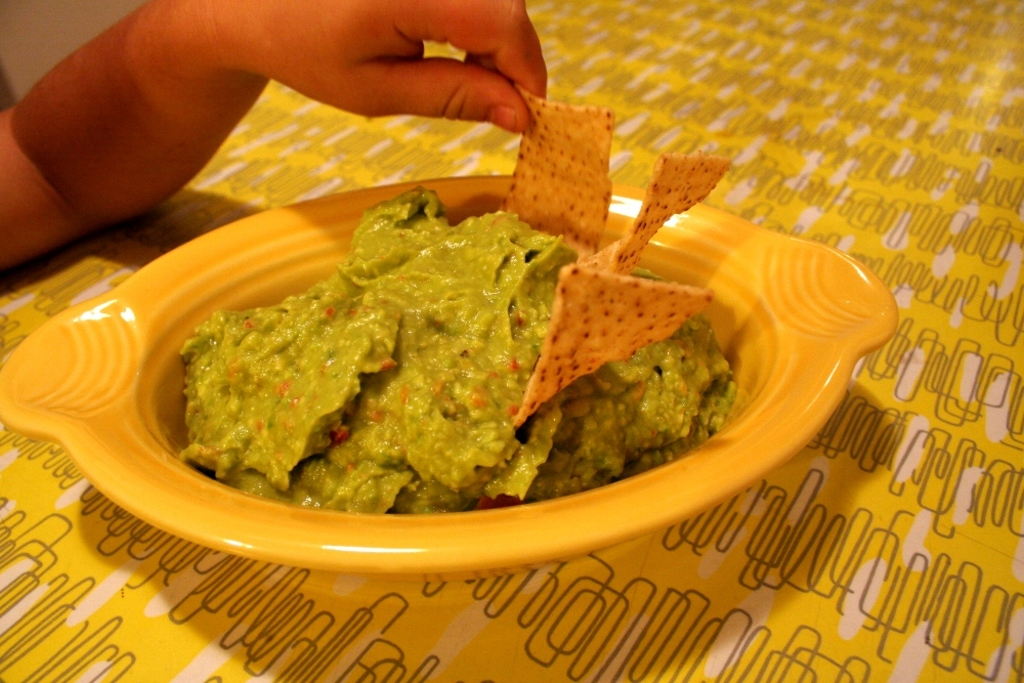person: (0, 0, 549, 280)
